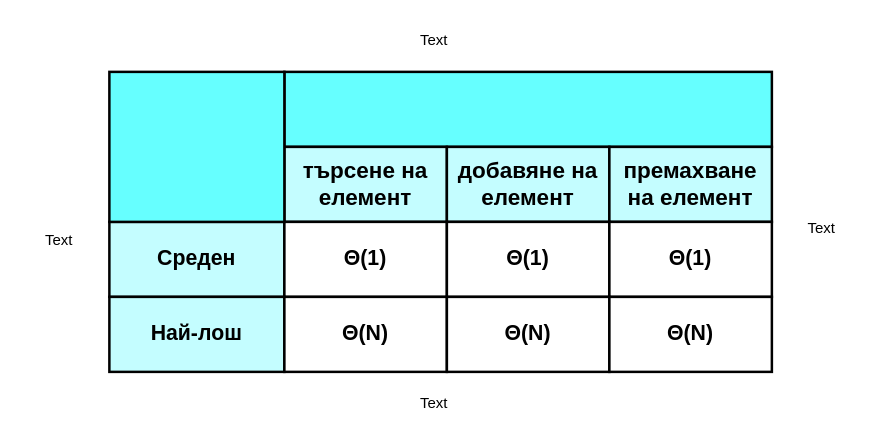
Some shapes in this 880 by 443 pixel diagram are drawn without their labels. Each missing label, with the centre of its shape:
"Операция" goes at (x=527, y=109).
"Случай" goes at (x=196, y=146).
